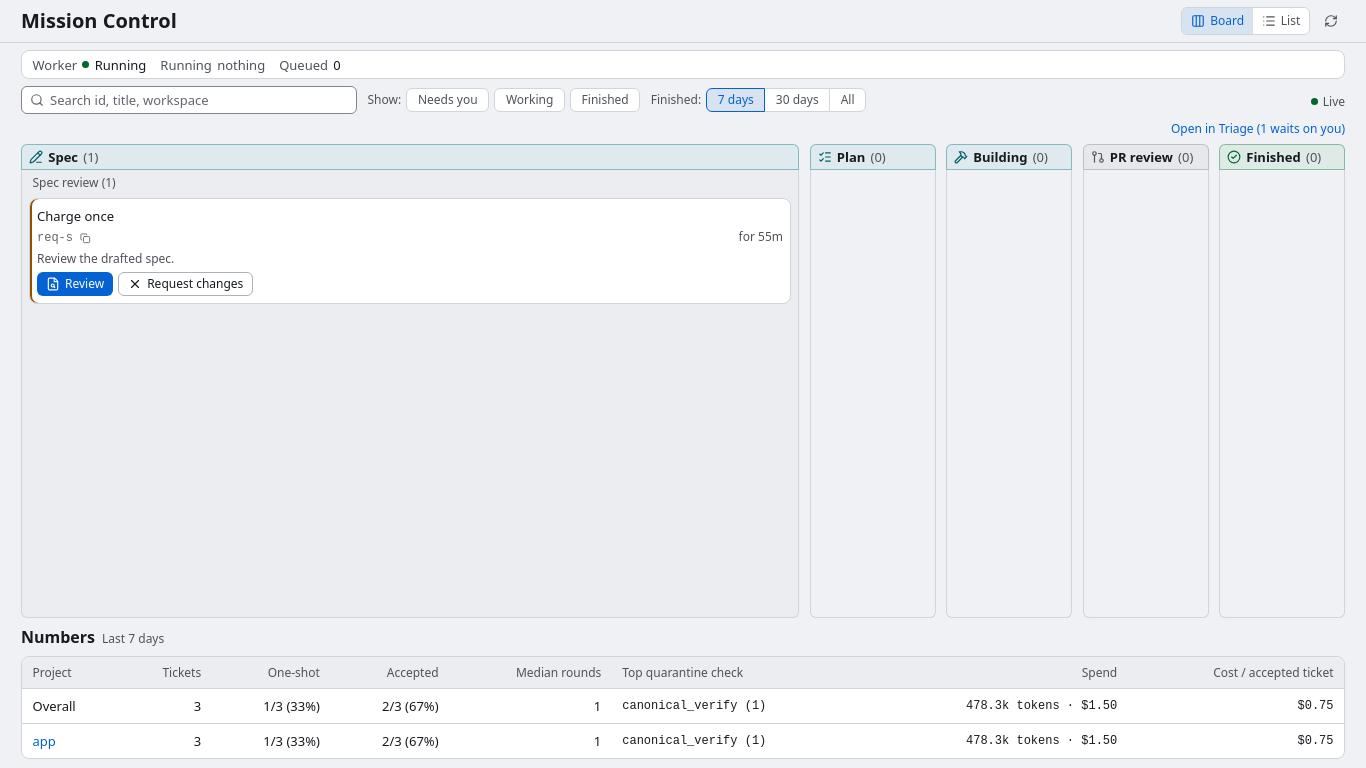
Test: deciding from a card › a detail that cannot be read shows the error, naming the request, and nothing is sent
The width and height of the screenshot is (1366, 768).
Click the button "Request changes".
click(186, 284)  # box top-left (118, 272), bottom-right (253, 296)
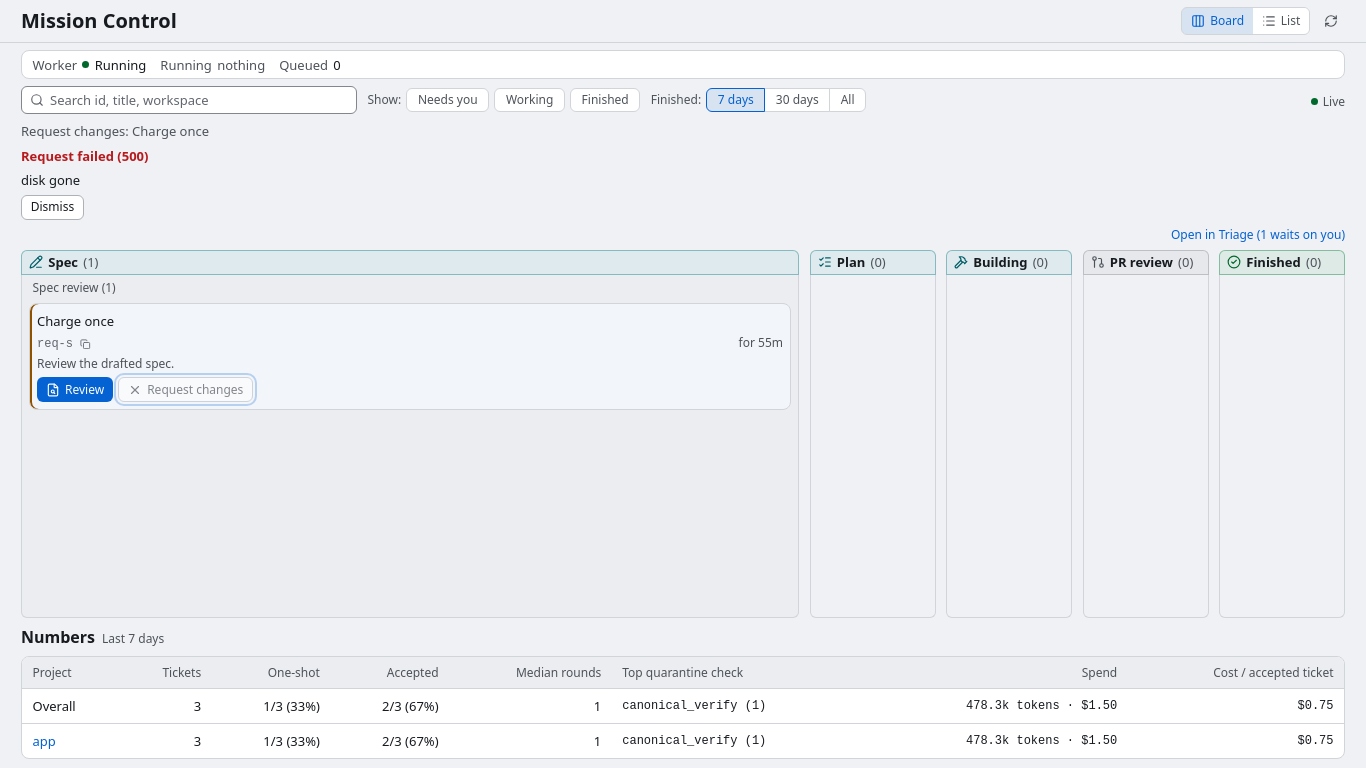
Expected: the message shows "Request failed (500)", top-left (21, 147), bottom-right (148, 165)
Expected: the element with test id "card-decision" shows "Request changes: Charge once", top-left (21, 122), bottom-right (209, 140)
Expected: the button "Request changes" is enabled, top-left (118, 377), bottom-right (253, 402)
Click the button "Dismiss".
click(52, 207)  # box top-left (21, 195), bottom-right (84, 220)
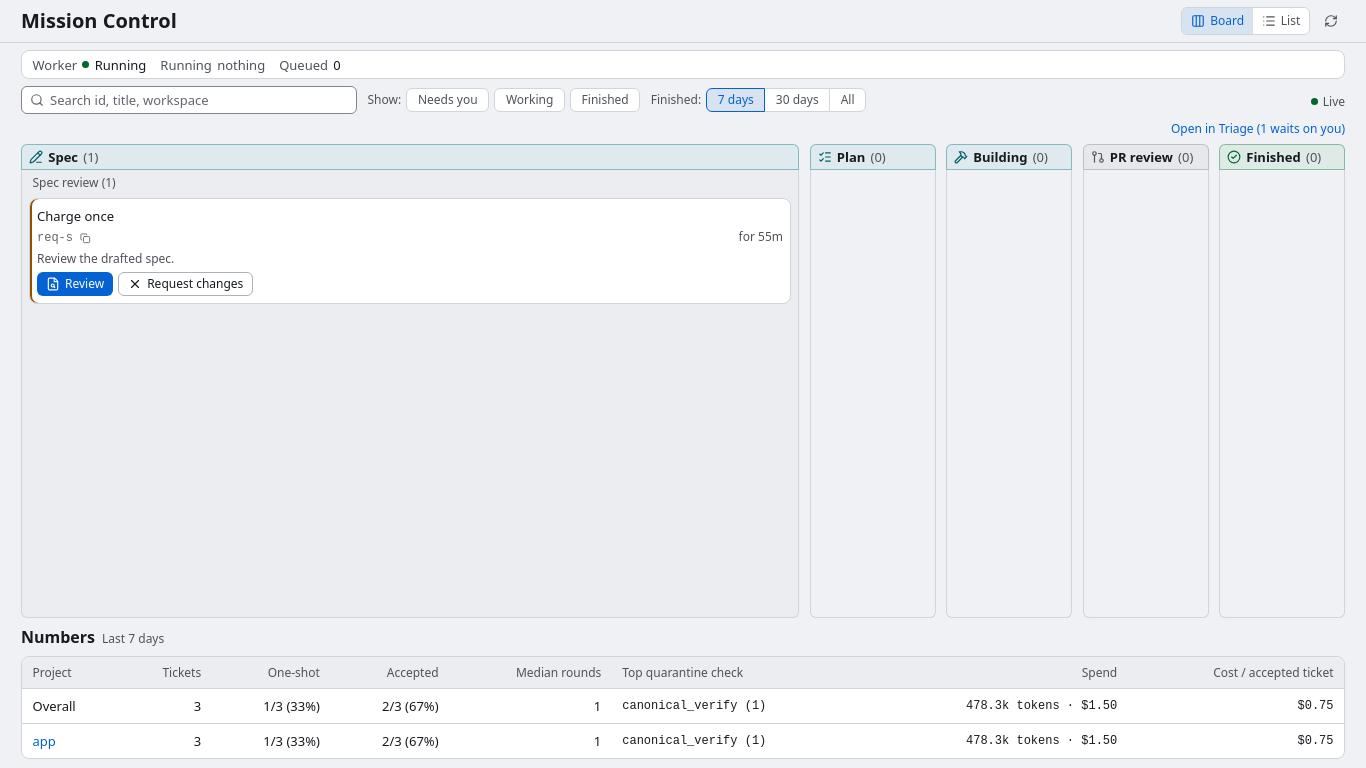
Expected: the element with test id "card-decision" is gone
